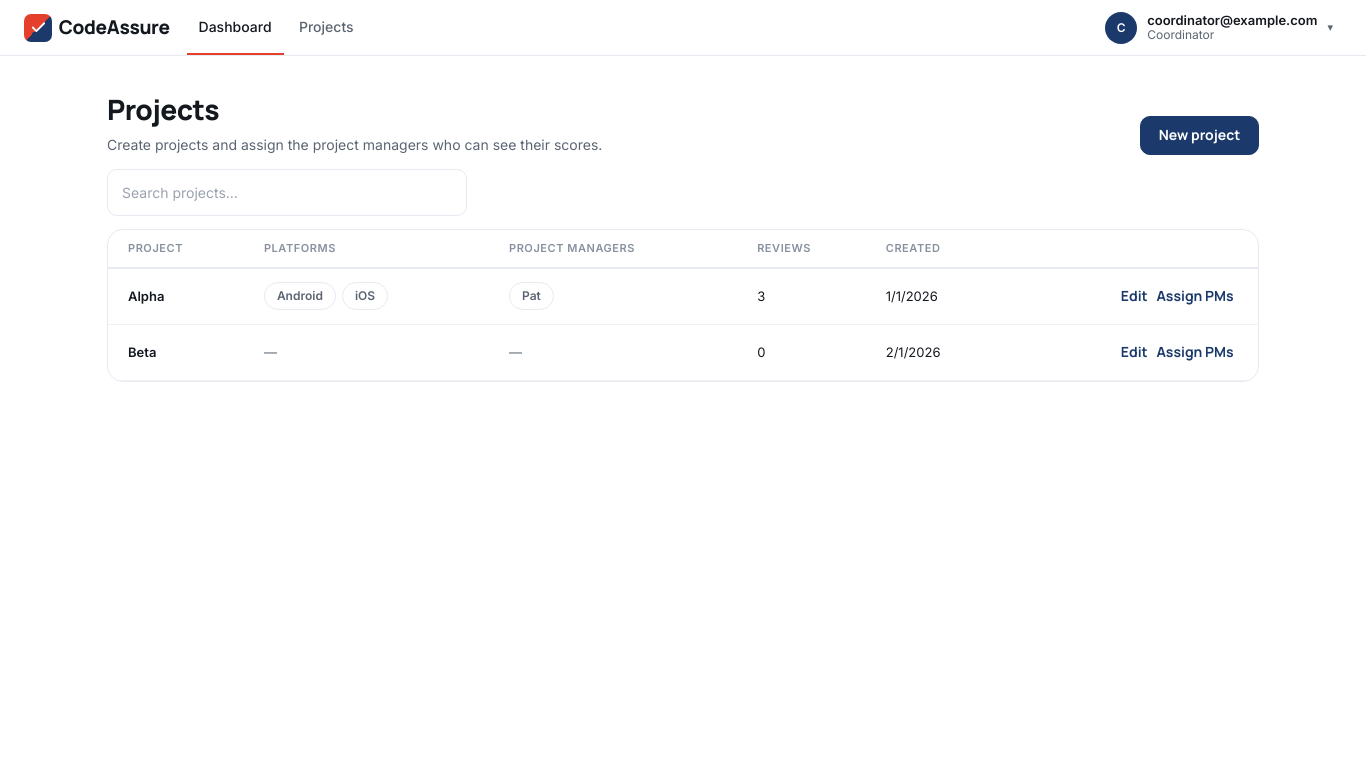
Test: renaming a project
The image size is (1366, 768).
Expected: the text "Beta" is shown, [108, 324, 252, 381]
Click the button with aria-label "Edit Beta" at (1134, 352), box [1116, 333, 1152, 372]
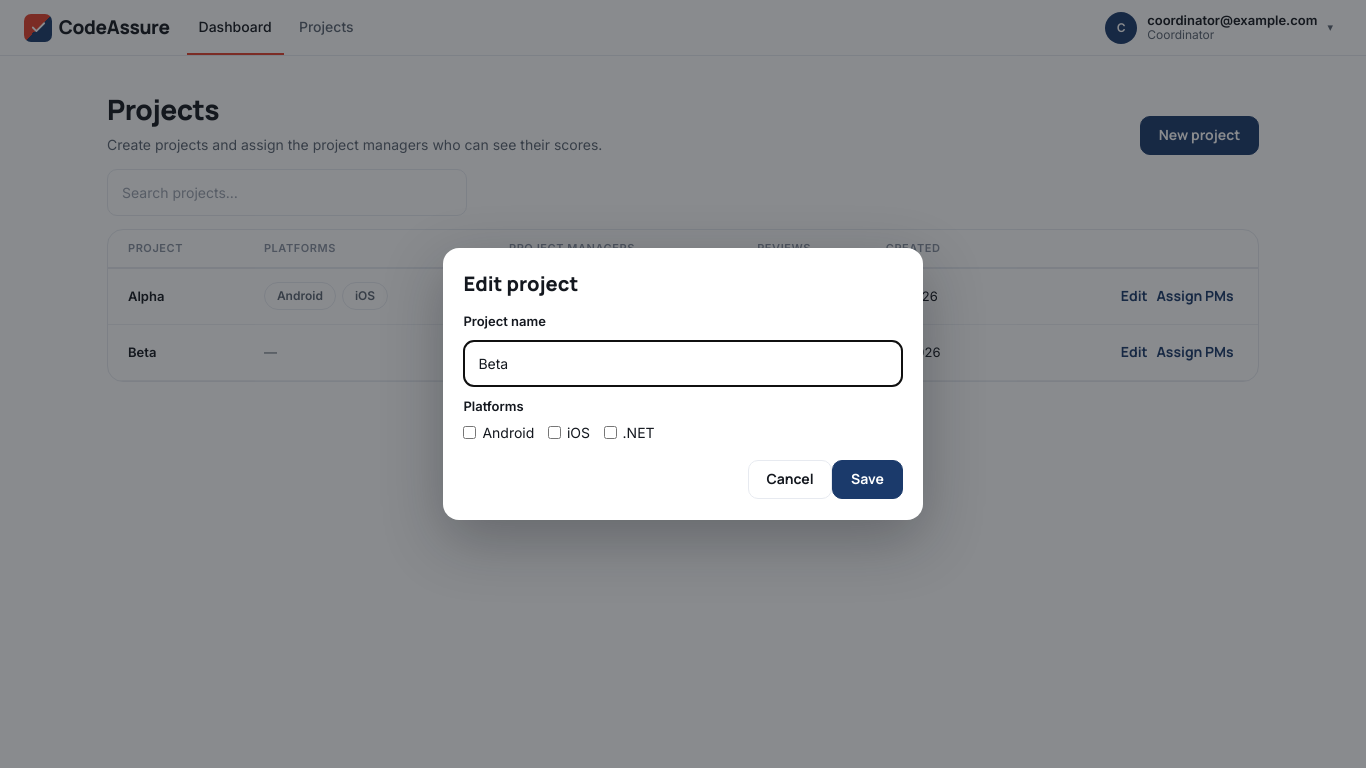
Replace the text in the field labelled "Project name" with "Beta 2" at (683, 363), box [463, 340, 903, 387]
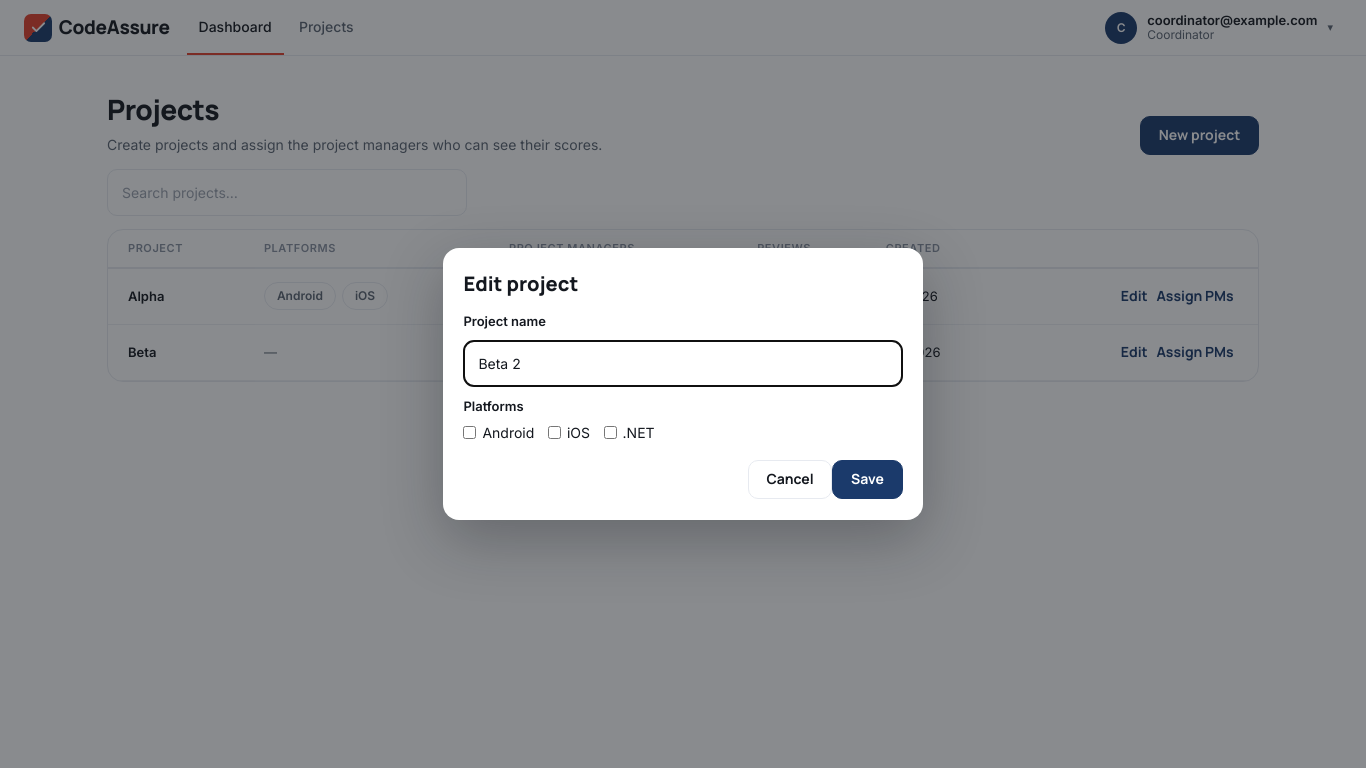
Click the button "Save" at (868, 480), box [832, 460, 903, 500]
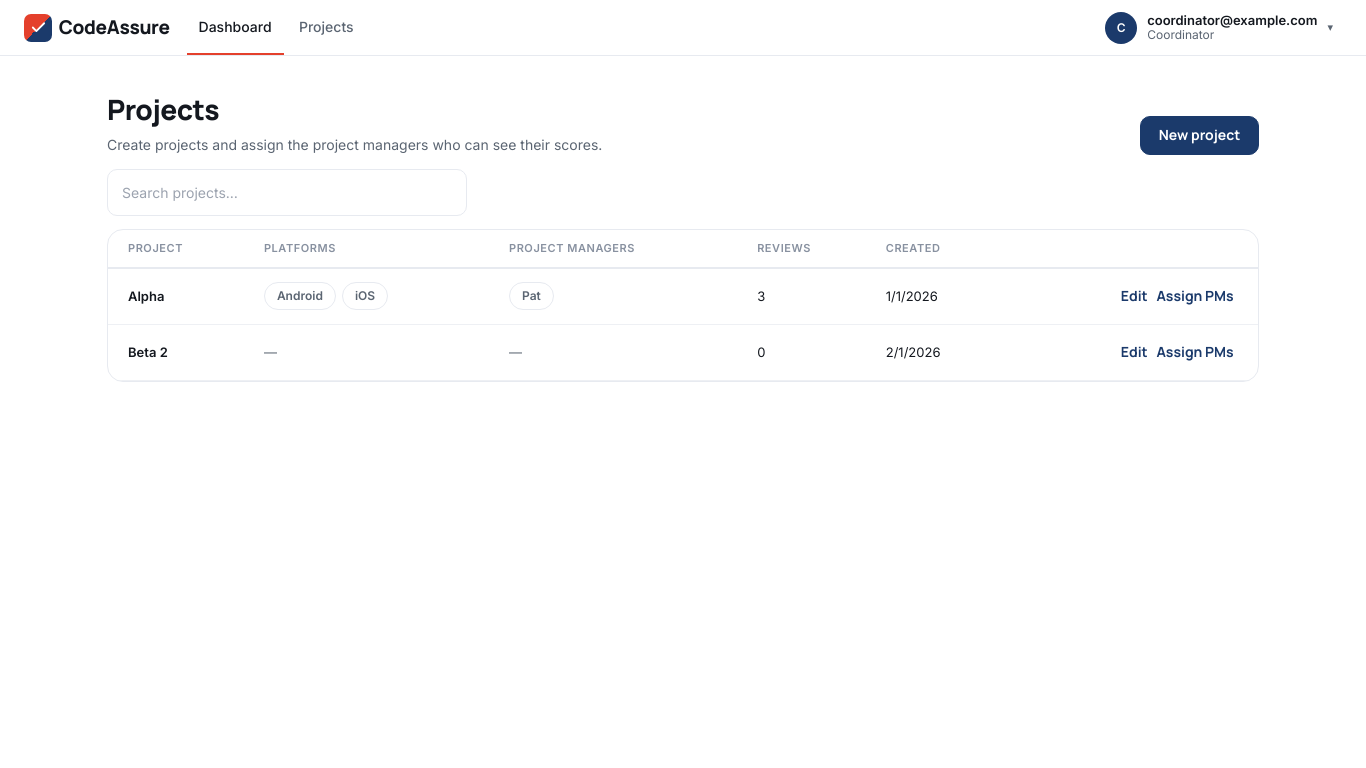
Now the text "Beta 2" is shown, box [108, 324, 252, 381]
